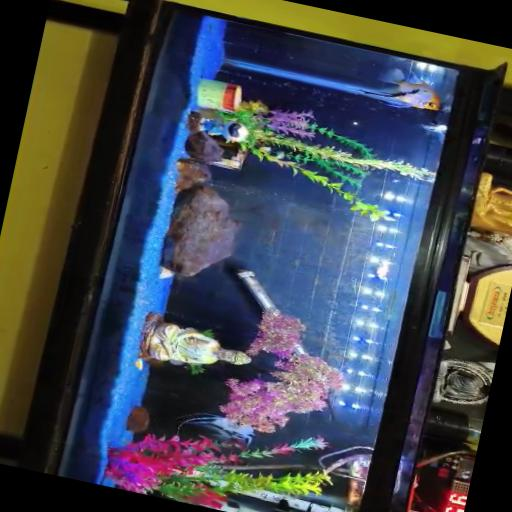Fish: (361, 68, 439, 110), (178, 413, 254, 449), (374, 260, 388, 280)
